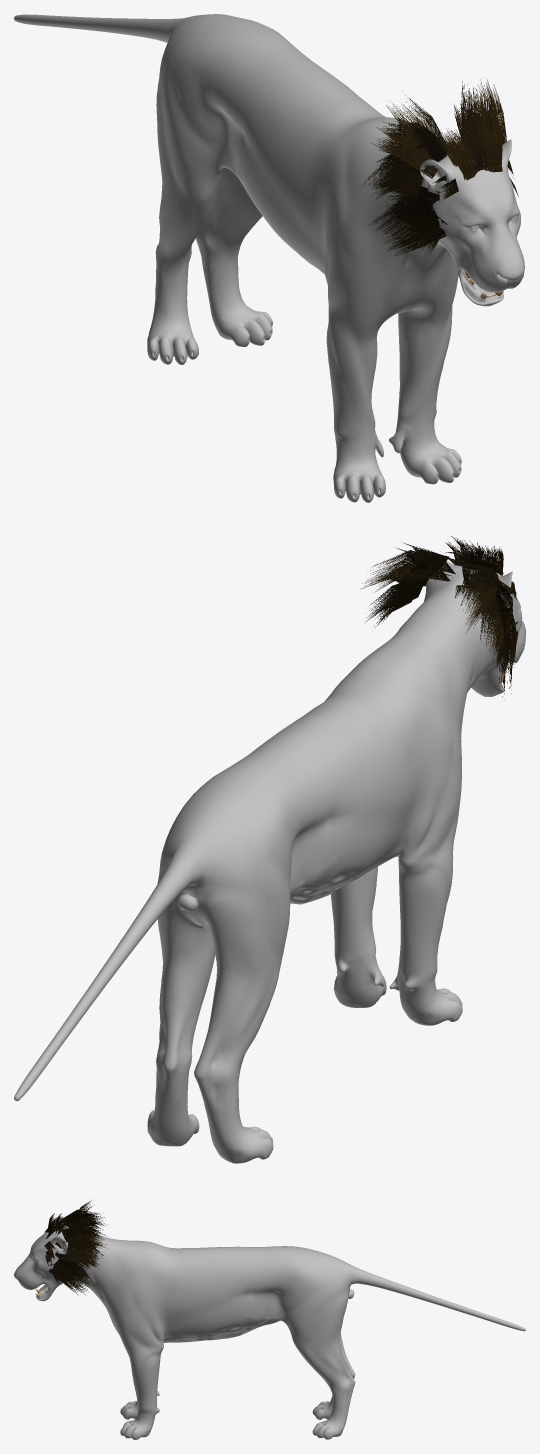
Rendered from lionManeTufts.fbx.
3 views of the same model, one above another, from view 1: azimuth 30°, elevation 25°; view 2: azimuth 150°, elevation 25°; view 3: azimuth 270°, elevation 25° (orthographic). The views are drawn at different scales.
Visible parts, largest first — view 1: pasted__Lion_body, pPlane3, pPlane35, pPlane27, pPlane31, pPlane32, pPlane29, pPlane20, pPlane23, pPlane2, pPlane34, pPlane33 (+1 smaller); view 2: pasted__Lion_body, pPlane30, pPlane2; view 3: pasted__Lion_body, pPlane3, pPlane25, pPlane28, pPlane20.
Part boxes in pixels (x1,y1,x2,y2): pasted__Lion_body: (14, 14, 524, 502); pPlane3: (375, 196, 446, 256); pPlane35: (372, 121, 449, 178); pPlane27: (467, 84, 506, 146); pPlane31: (362, 143, 427, 200); pPlane32: (386, 91, 446, 154); pPlane29: (460, 80, 498, 142); pPlane20: (368, 195, 423, 250); pPlane23: (475, 123, 502, 170); pPlane2: (379, 158, 423, 198); pPlane34: (448, 129, 483, 179); pPlane33: (378, 128, 447, 171); pasted__Lion_body: (14, 560, 525, 1163); pPlane30: (361, 550, 440, 590); pPlane2: (486, 592, 514, 654); pasted__Lion_body: (14, 1216, 525, 1439); pPlane3: (48, 1256, 90, 1295); pPlane25: (65, 1241, 95, 1267); pPlane28: (61, 1227, 98, 1248); pPlane20: (66, 1260, 97, 1295).
Size of the model in its own units: 53.57 by 115 by 242.
